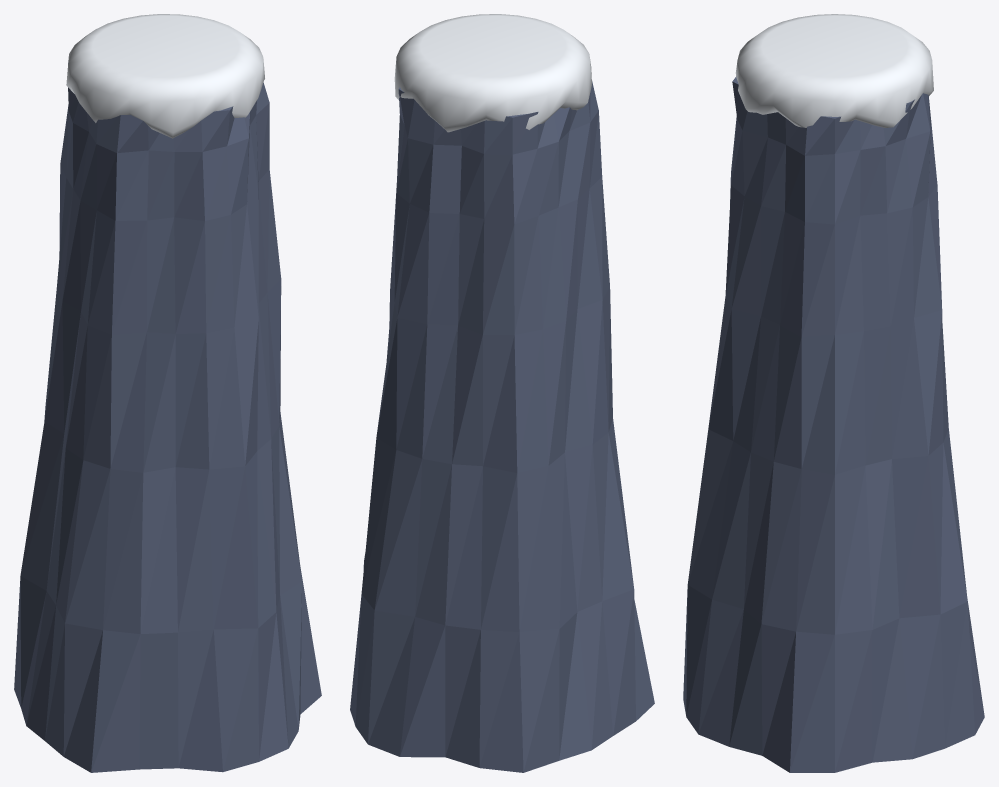
Rendered from SnowballSummitSpire.obj.
3 renders of one model, left to right at view 1: azimuth 30°, elevation 25°; view 2: azimuth 150°, elevation 25°; view 3: azimuth 270°, elevation 25°, orthographic.
Visible parts, largest first — view 1: Rock, Snow; view 2: Rock, Snow; view 3: Rock, Snow.
Boxes of the visible parts, x1,y1,x2,y2 form: Rock: (14,63,321,772); Snow: (66,14,264,138); Rock: (350,81,654,772); Snow: (394,14,591,132); Rock: (683,76,984,772); Snow: (735,14,933,127).
Size of the model in its own units: 24.2 by 60 by 24.79.
